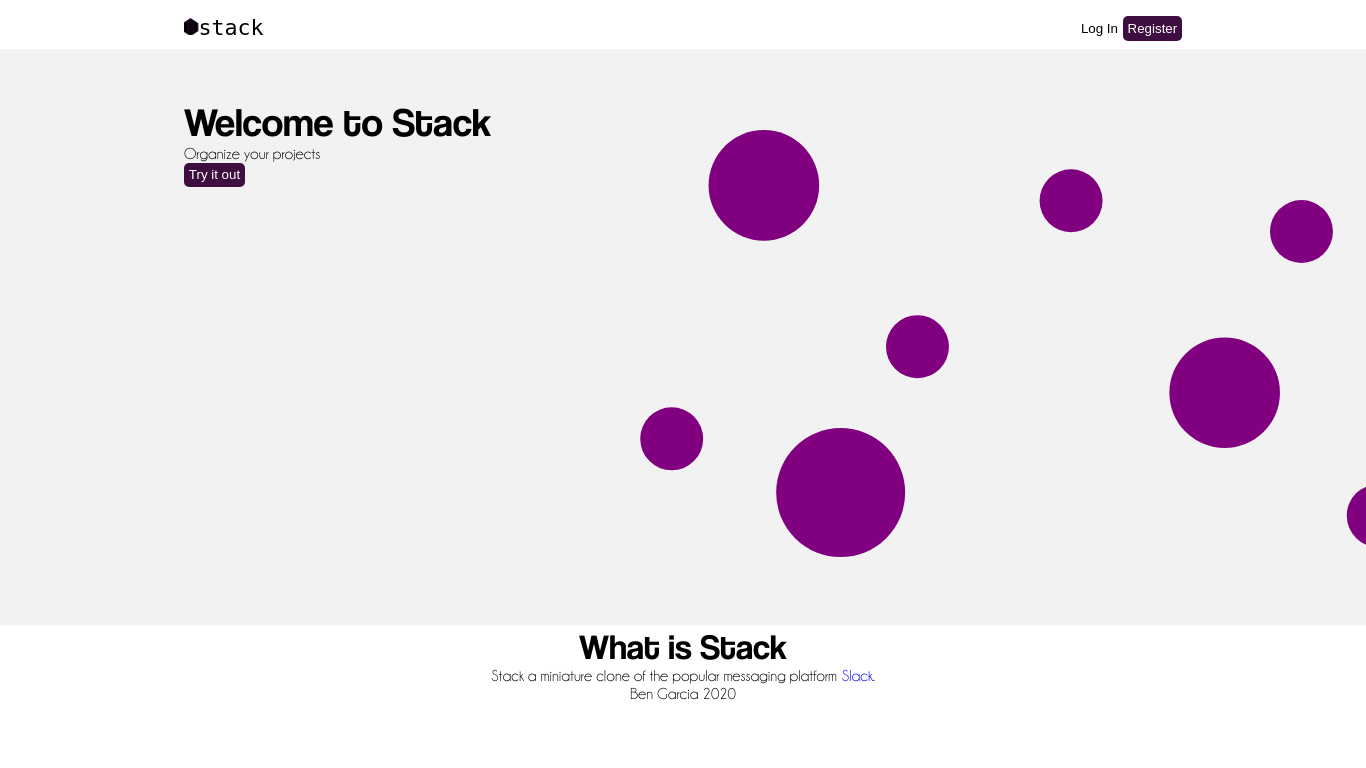
Test case: Register › error messages › email › should show "valid email" message
Step 1. Click the button "Register" → (1153, 29), box [1123,16,1182,41]
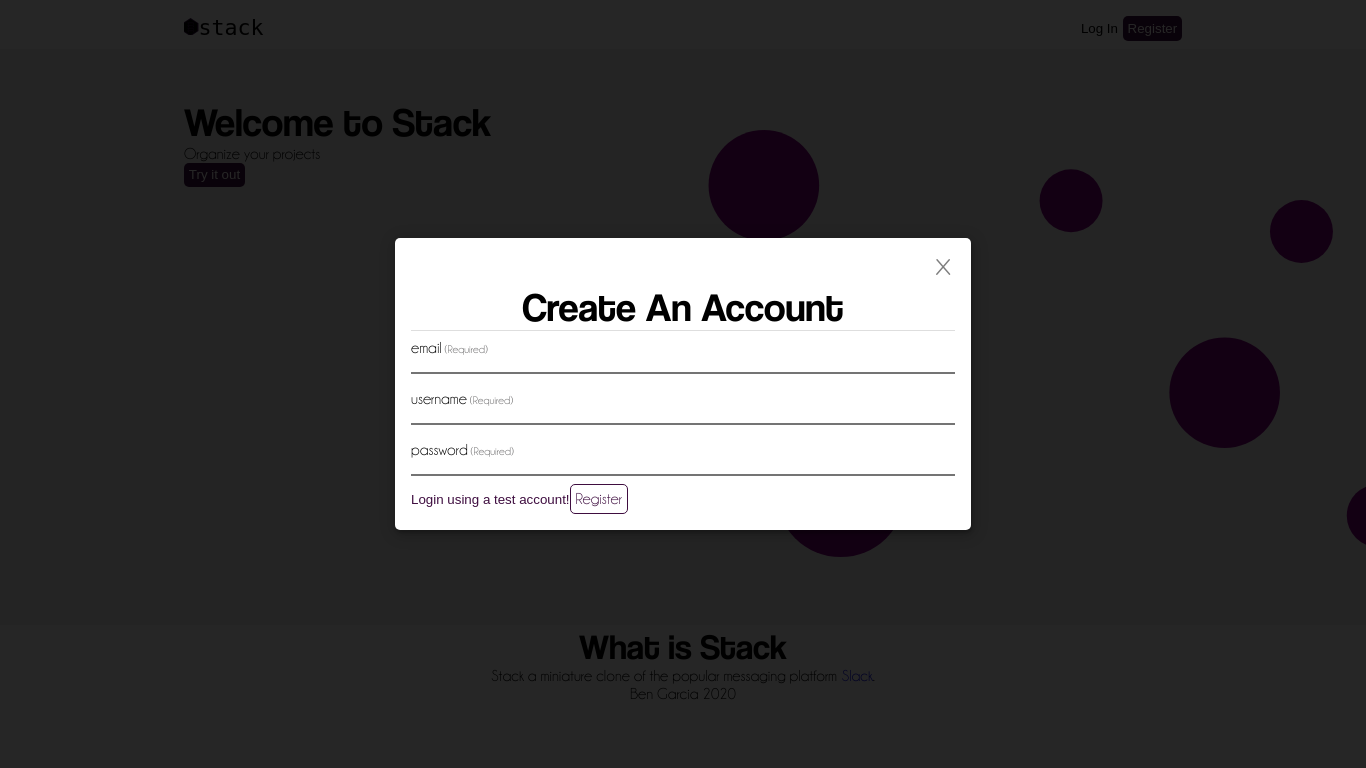
Step 2. Type "invalid" into the field named "email" → (683, 366), box [411,357,955,374]
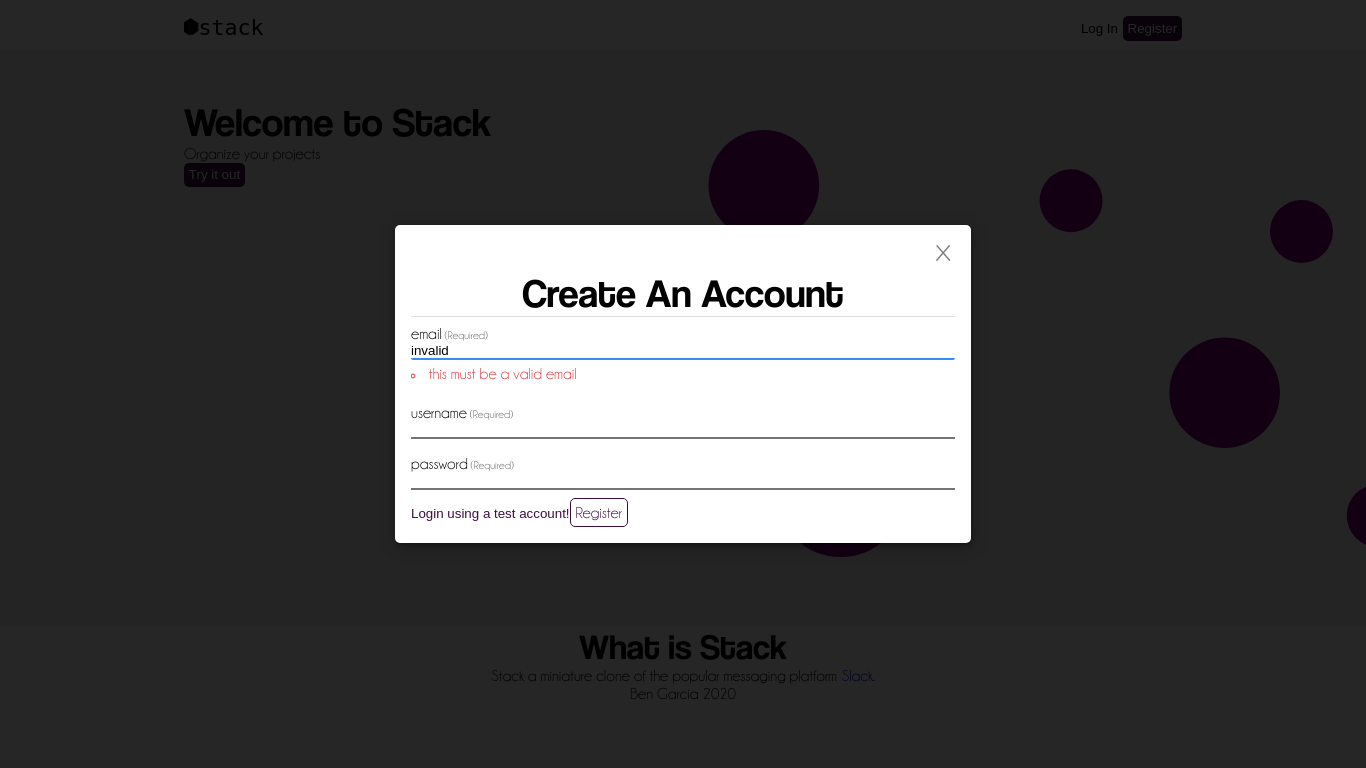
Check: the text "this must be a valid email" is shown, box [429,366,577,382]
